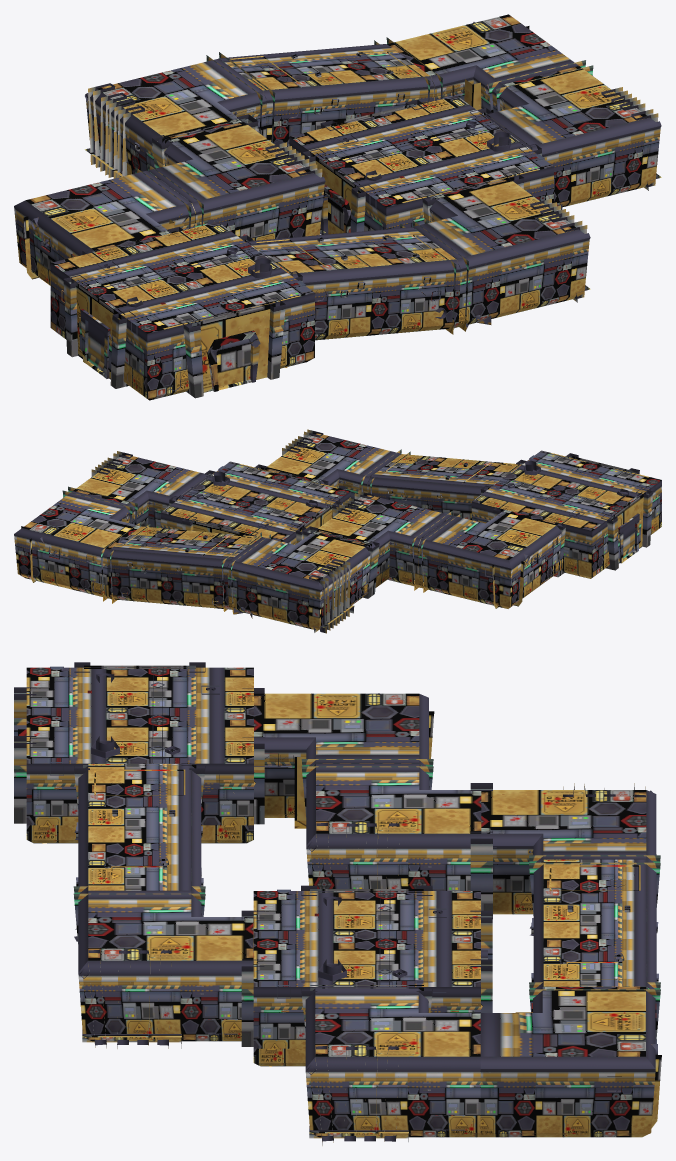
File: Combined_Mesh_root_scene__4_e0ea2853__zombies2_diffuse_04_b80f3c78_c1f257.obj
3 views of the same model, one above another, from view 1: azimuth 30°, elevation 25°; view 2: azimuth 150°, elevation 25°; view 3: azimuth 270°, elevation 25° (orthographic). The views are drawn at different scales.
Size of the model in its own units: 76.84 by 12.64 by 57.04.
Materials: 171 (171 with a texture image).
